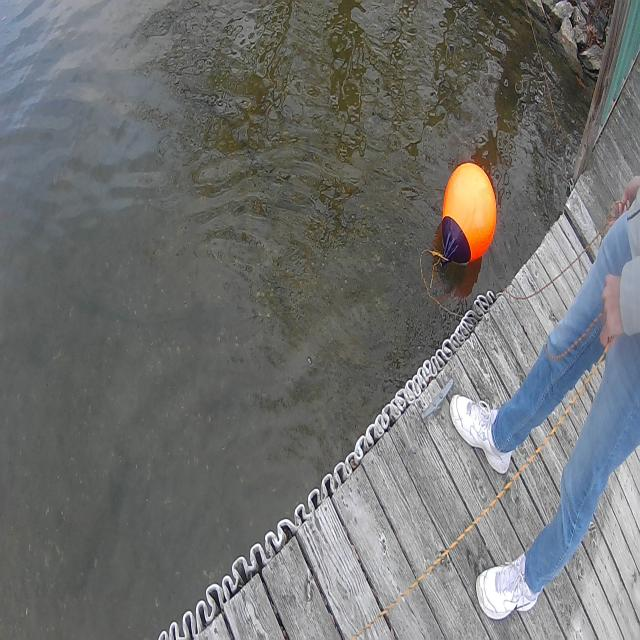Buoy: (438, 160, 498, 274)
